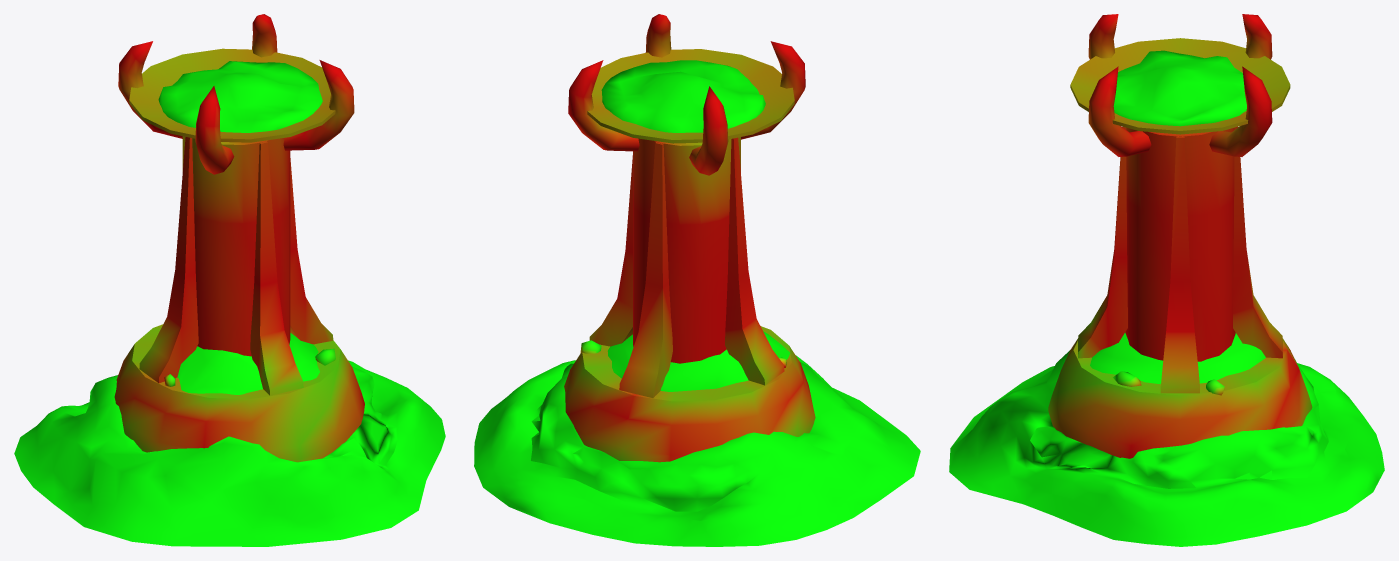
Rendered from fbxPedestalSandy.fbx.
3 renders of one model, left to right at view 1: azimuth 30°, elevation 25°; view 2: azimuth 150°, elevation 25°; view 3: azimuth 270°, elevation 25°, orthographic.
Visible parts, largest first — view 1: PedestalMeshSandy, PedestalSand; view 2: PedestalMeshSandy, PedestalSand; view 3: PedestalMeshSandy, PedestalSand.
Part boxes in pixels (x1=…): PedestalMeshSandy: x1=114, y1=14, x2=364, y2=462; PedestalSand: x1=14, y1=61, x2=445, y2=546; PedestalMeshSandy: x1=564, y1=14, x2=815, y2=462; PedestalSand: x1=474, y1=60, x2=920, y2=546; PedestalMeshSandy: x1=1048, y1=14, x2=1312, y2=458; PedestalSand: x1=949, y1=50, x2=1384, y2=546.
Bounding box in the file's own units: 3.41 × 3.48 × 3.3.
